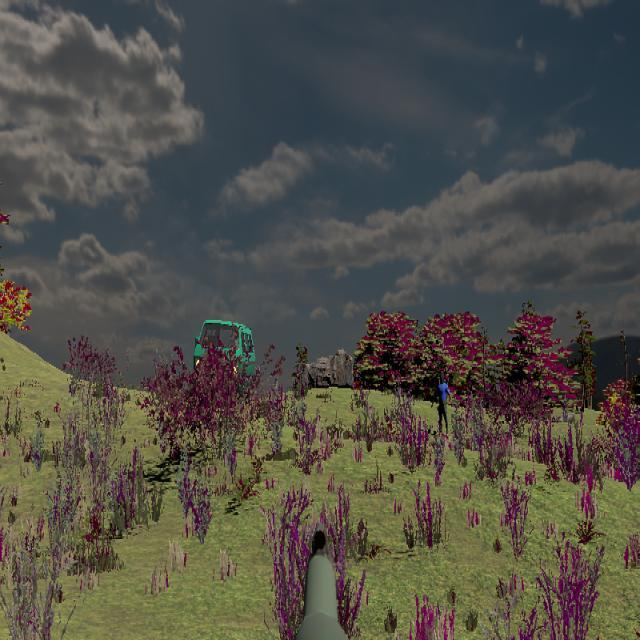Human: (432, 372, 452, 440)
car: (193, 320, 257, 402)
